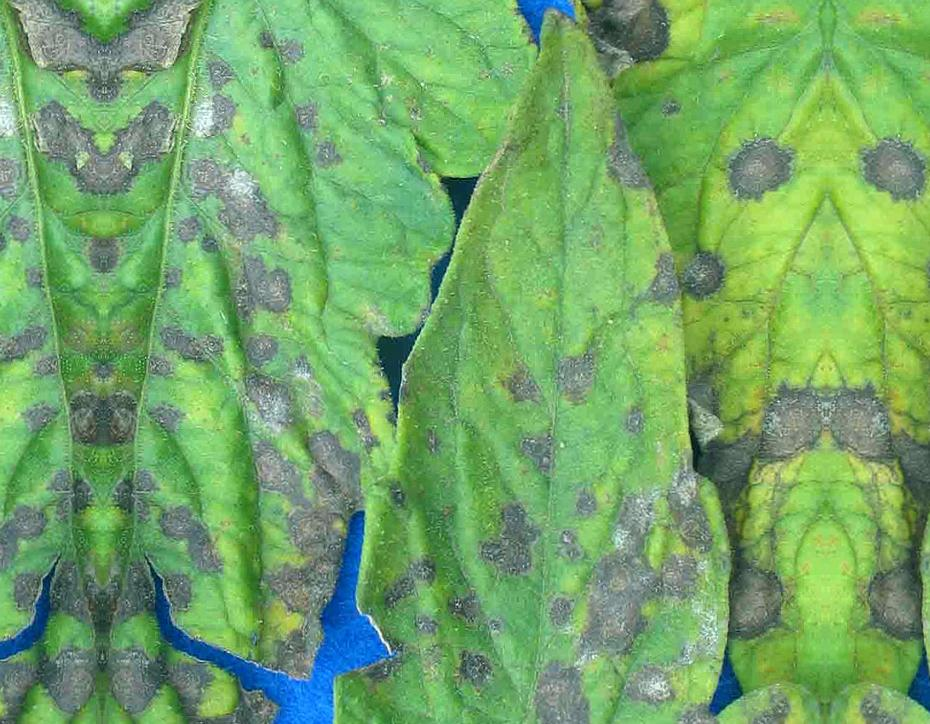Tomato Septoria leaf spot: (196, 0, 828, 724), (101, 0, 546, 724), (504, 0, 829, 724)
